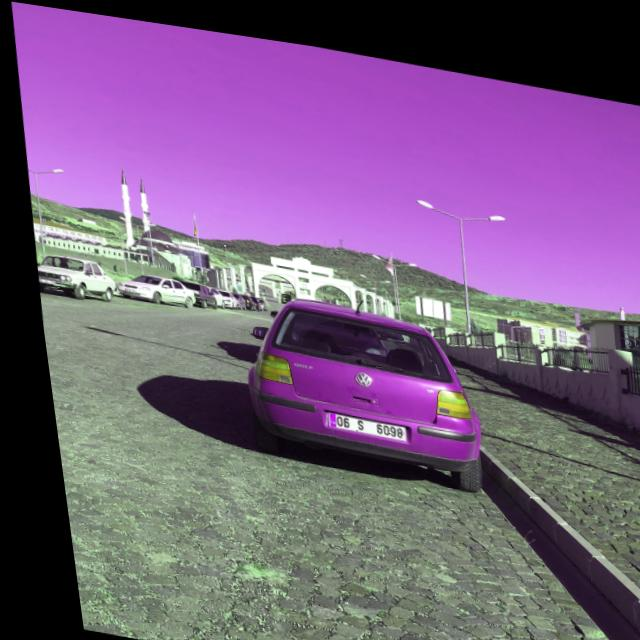license_plate: (318, 404, 395, 430)
